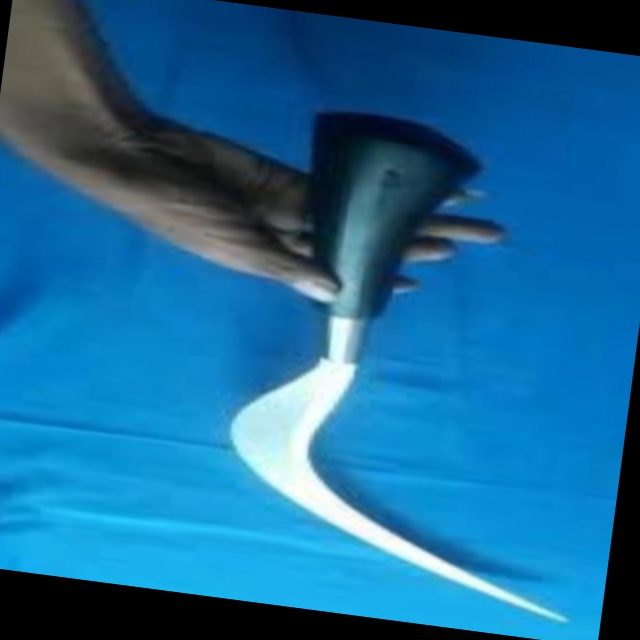Sharp-Object: (167, 83, 640, 629)
